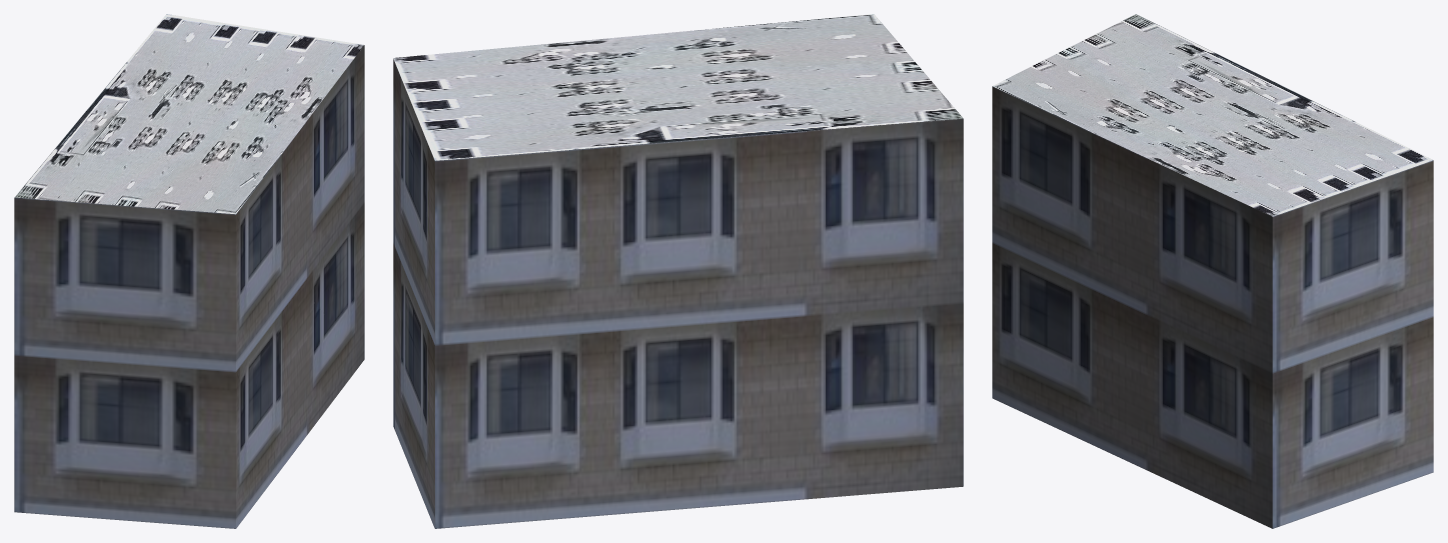
Rendered from ResTex__3156.fbx.
3 views of the same model, side by side, from view 1: azimuth 30°, elevation 25°; view 2: azimuth 150°, elevation 25°; view 3: azimuth 270°, elevation 25° (orthographic). The views are drawn at different scales.
Visible parts, largest first — view 1: CityEngineMaterial_3_m, CityEngineMaterial_4_m; view 2: CityEngineMaterial_3_m, CityEngineMaterial_4_m; view 3: CityEngineMaterial_3_m, CityEngineMaterial_4_m.
Part boxes in pixels (x1,y1,x2,y2): CityEngineMaterial_3_m: [14, 45, 364, 528]; CityEngineMaterial_4_m: [14, 14, 363, 214]; CityEngineMaterial_3_m: [393, 59, 963, 528]; CityEngineMaterial_4_m: [393, 14, 963, 160]; CityEngineMaterial_3_m: [992, 86, 1433, 528]; CityEngineMaterial_4_m: [992, 14, 1433, 216].
Bounding box in the file's own units: 8.36 × 6 × 7.69.
Materials: 2 (2 with a texture image).
